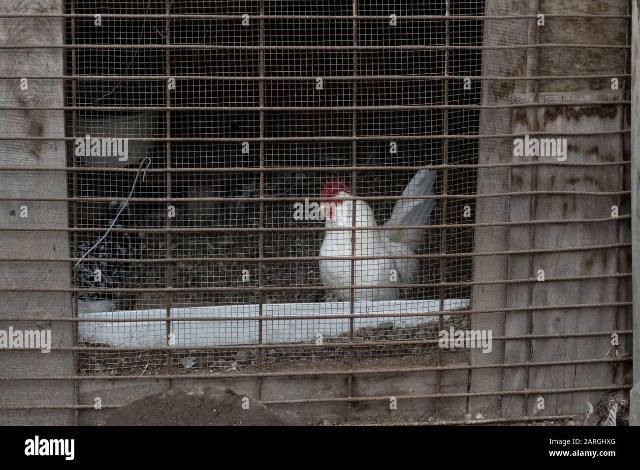Chicken: (314, 162, 437, 305)
